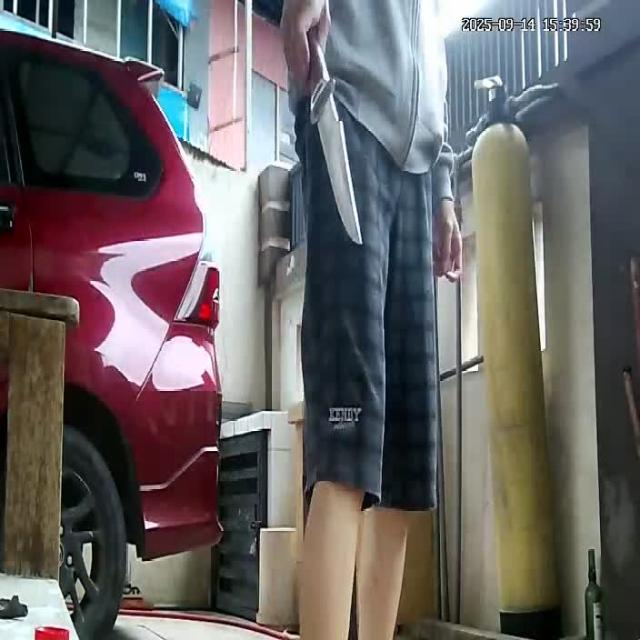senjata_tajam: (306, 70, 366, 250)
